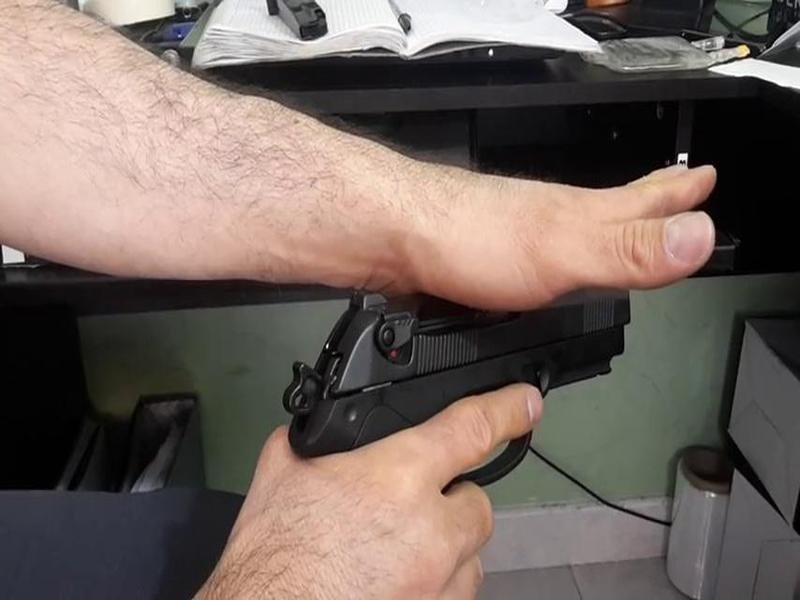Pistola: (261, 260, 663, 504)
